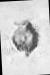W24: (3, 0, 48, 74)
